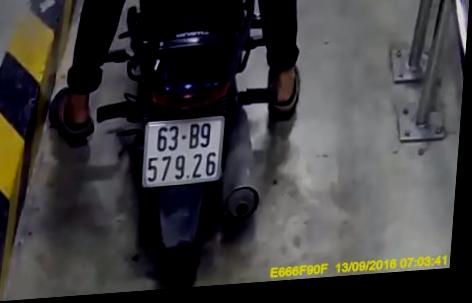License_Plate: (133, 111, 237, 193)
